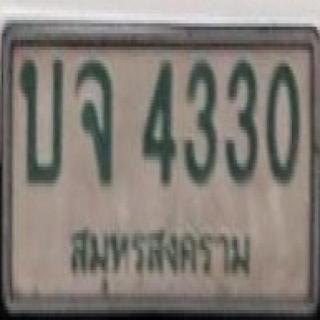A08: (69, 53, 122, 185)
A26: (16, 54, 68, 185)
N00: (260, 54, 304, 188)
N03: (180, 54, 222, 188), (220, 52, 261, 185)
N04: (133, 50, 181, 190)
P59: (68, 220, 258, 295)
